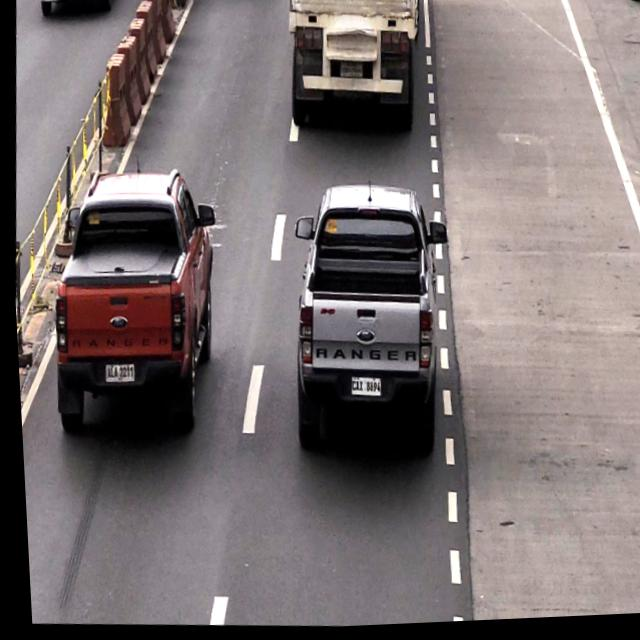Car: (280, 176, 448, 468), (46, 169, 219, 440), (277, 0, 423, 140)
License-Plate: (344, 377, 377, 404), (99, 363, 132, 386)
